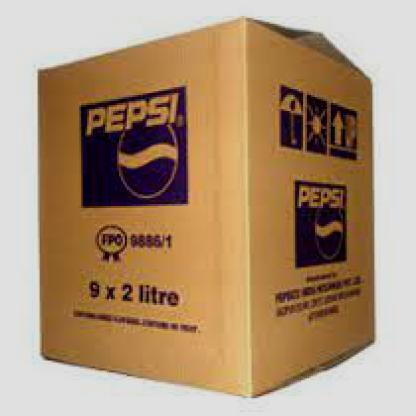box: (22, 16, 399, 408)
